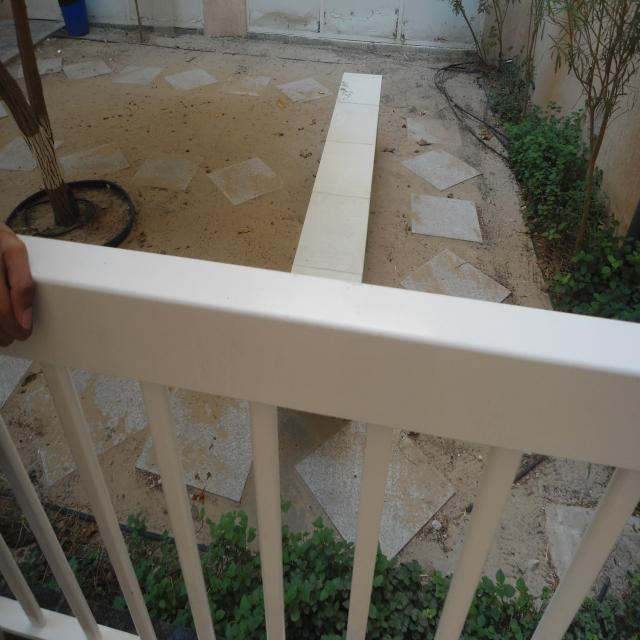bench: (291, 73, 381, 282)
railing: (6, 237, 640, 638)
